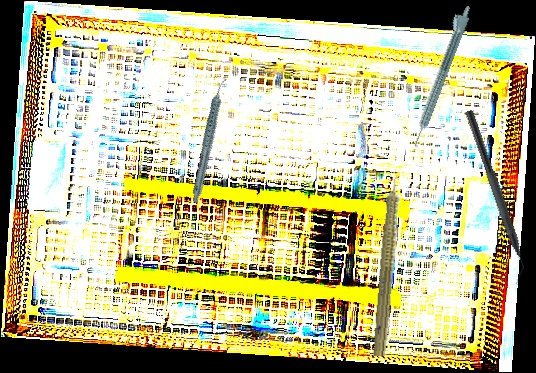Chopper: (453, 109, 535, 286)
Handpiece: (168, 77, 253, 204), (404, 2, 474, 149), (370, 161, 410, 358)
